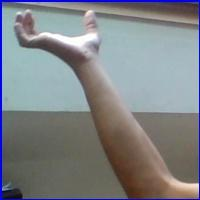space: (9, 4, 110, 69)
